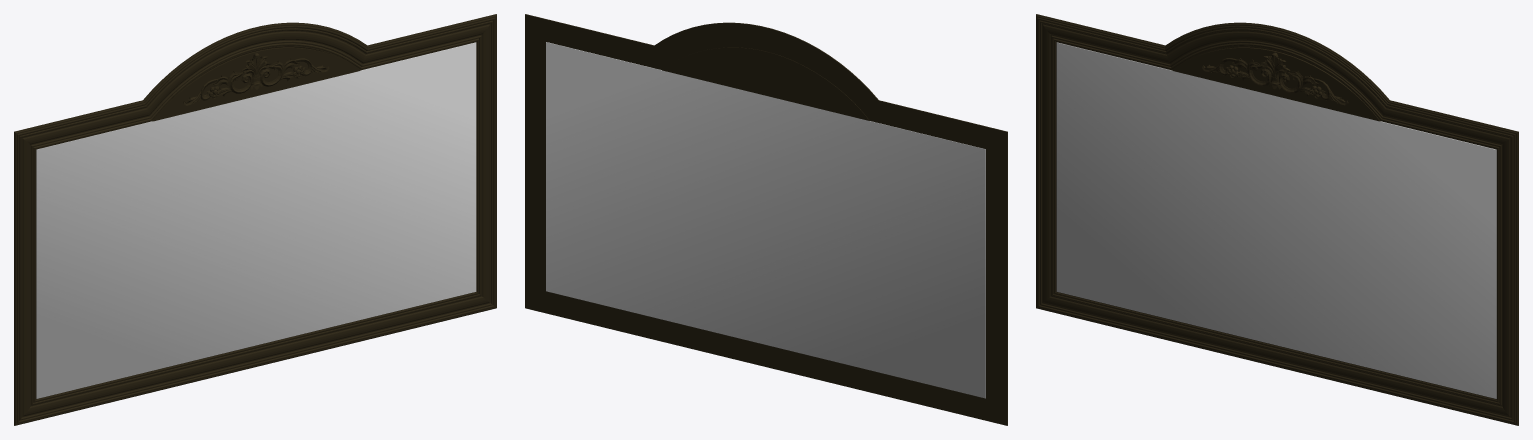
File: wall_mirror.glb
The picture shows the model from 3 angles, left to right: view 1: azimuth 30°, elevation 25°; view 2: azimuth 150°, elevation 25°; view 3: azimuth 330°, elevation 25°; orthographic projection.
Parts seen in each view (by area): view 1: Mirror N250822; view 2: Mirror N250822; view 3: Mirror N250822.
Part boxes in pixels (box(x1,y1,x2,y2)): Mirror N250822: box(14, 14, 496, 425); Mirror N250822: box(525, 14, 1007, 425); Mirror N250822: box(1036, 14, 1518, 425).
Size of the model in its own units: 1702 by 1144 by 23.18.
Materials: 2 (1 with a texture image).
